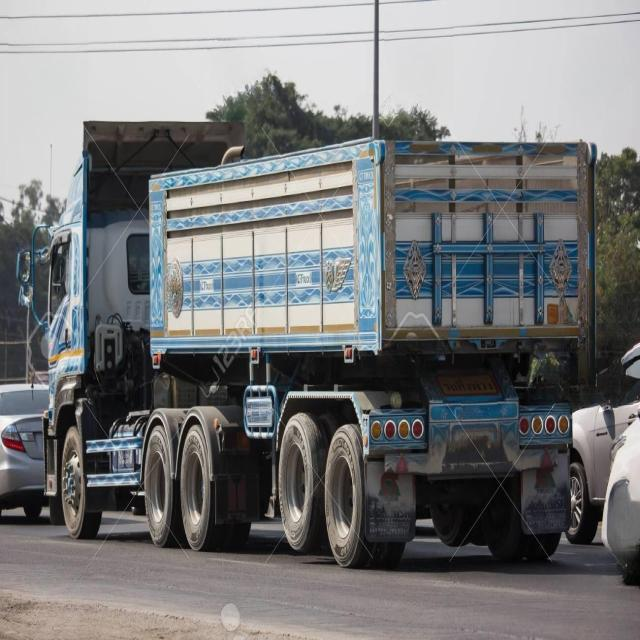truck: (38, 122, 595, 567)
